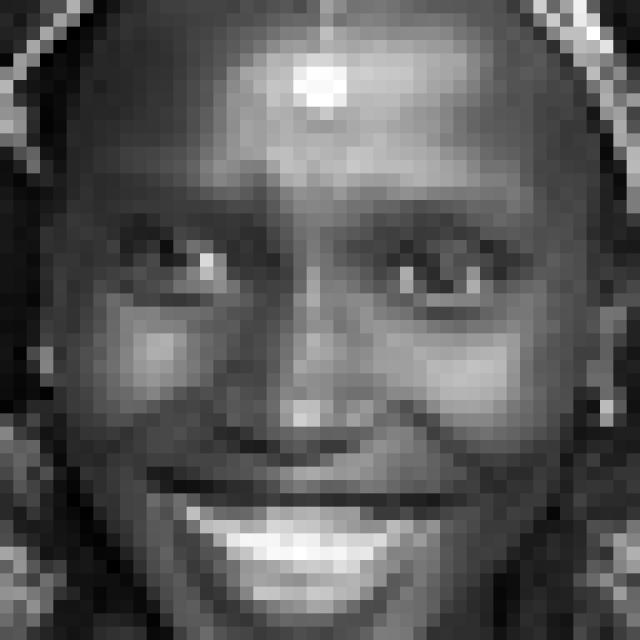happy: (105, 156, 550, 640)
